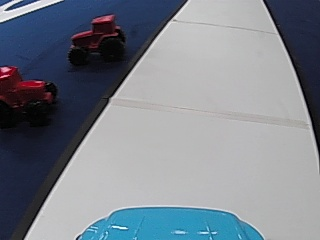tractor: (1, 64, 56, 126), (66, 13, 127, 65)
